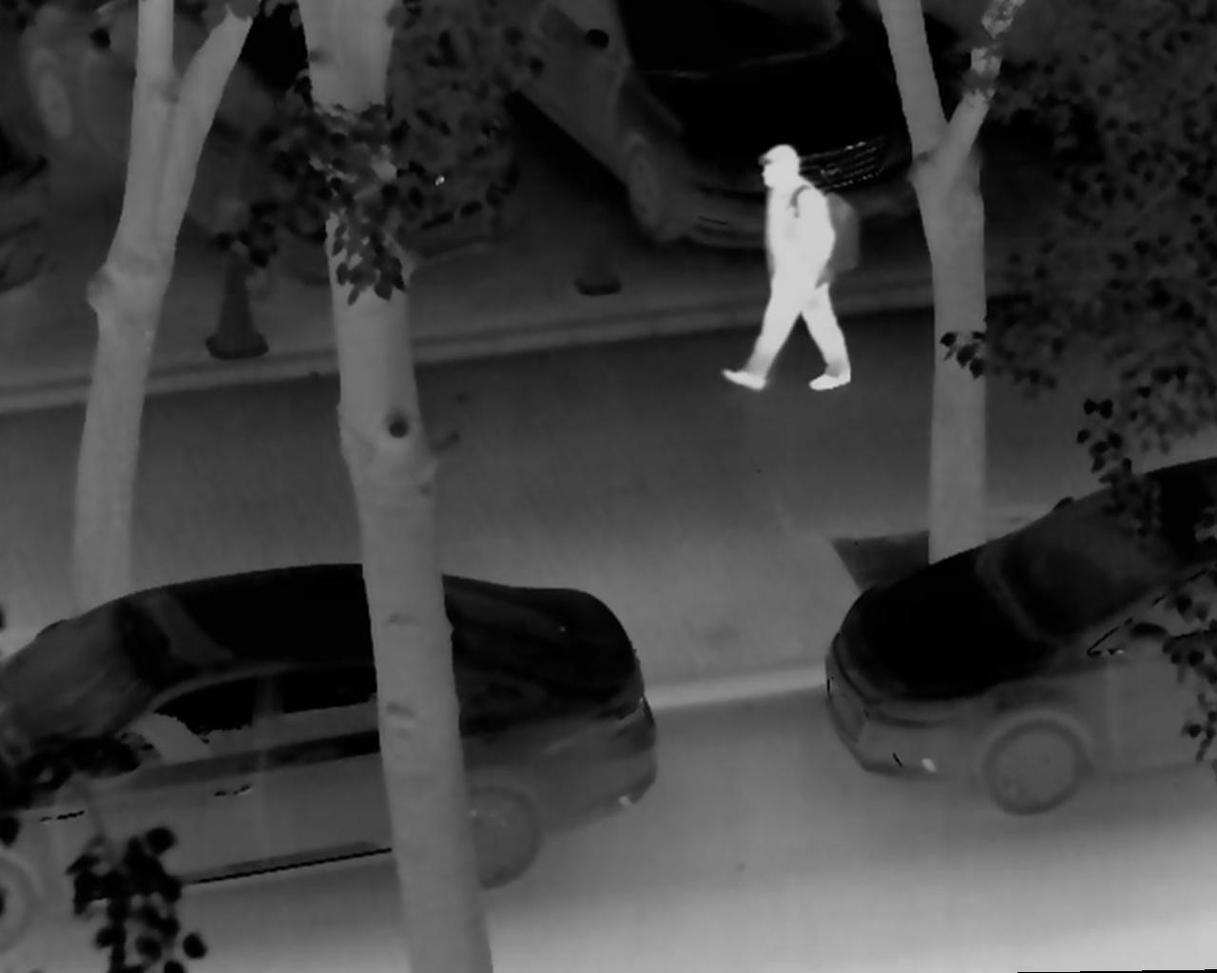person: (719, 143, 856, 394)
